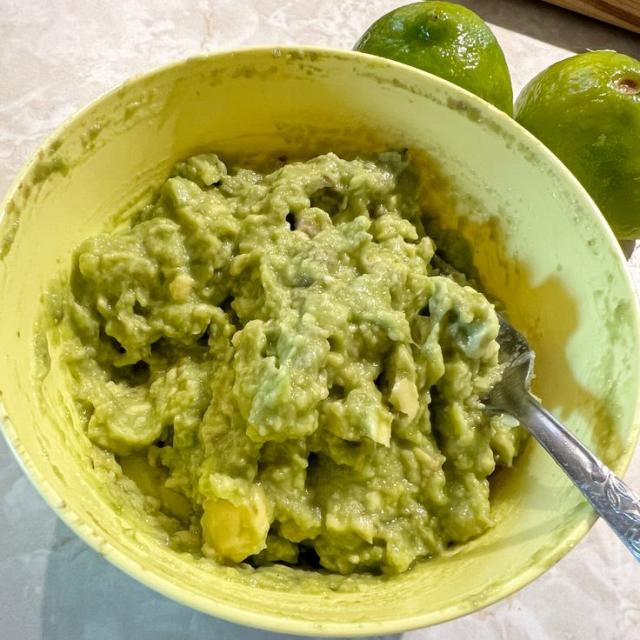avocado: (47, 150, 524, 573), (515, 50, 639, 239), (355, 1, 511, 115)
